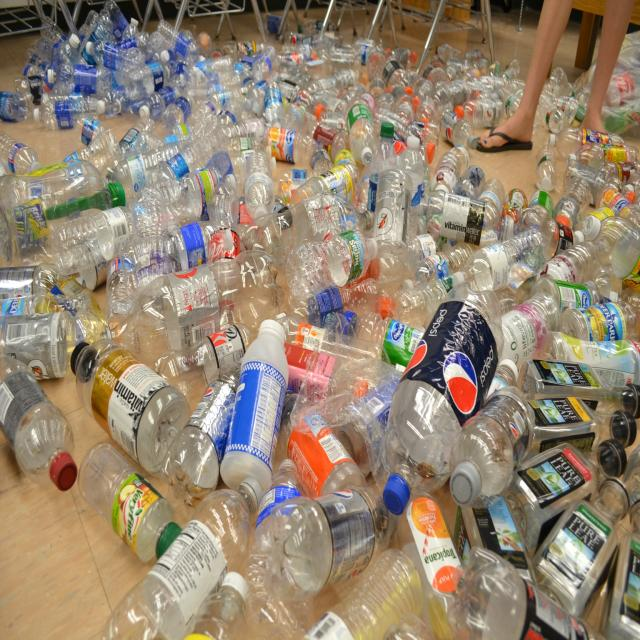plastic_bottle: (101, 481, 253, 639)
